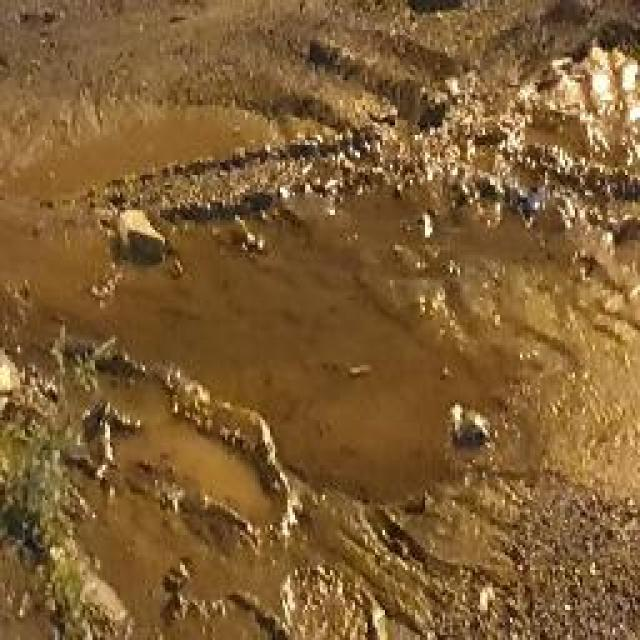waterlogging: (30, 87, 640, 640)
